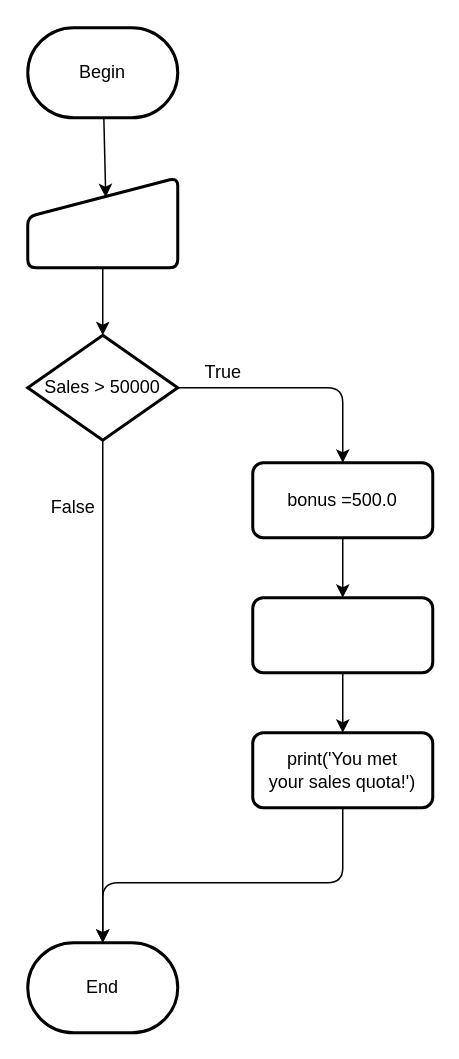
This 459x1059 diagram has some shape labels left out. Here are the shapes that lost their labels. From the top down, the centre of each, then its label:
the point at 102,222: Sales
the point at 342,635: commission_rete = 0.12
